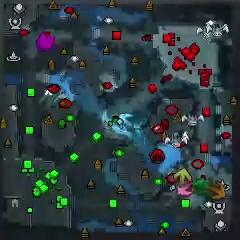p3: (36, 32, 54, 52)
x1: (176, 182, 192, 196)
x2: (173, 168, 192, 185)
x3: (118, 113, 134, 129)
x4: (194, 178, 211, 196)
x5: (211, 183, 227, 200)
